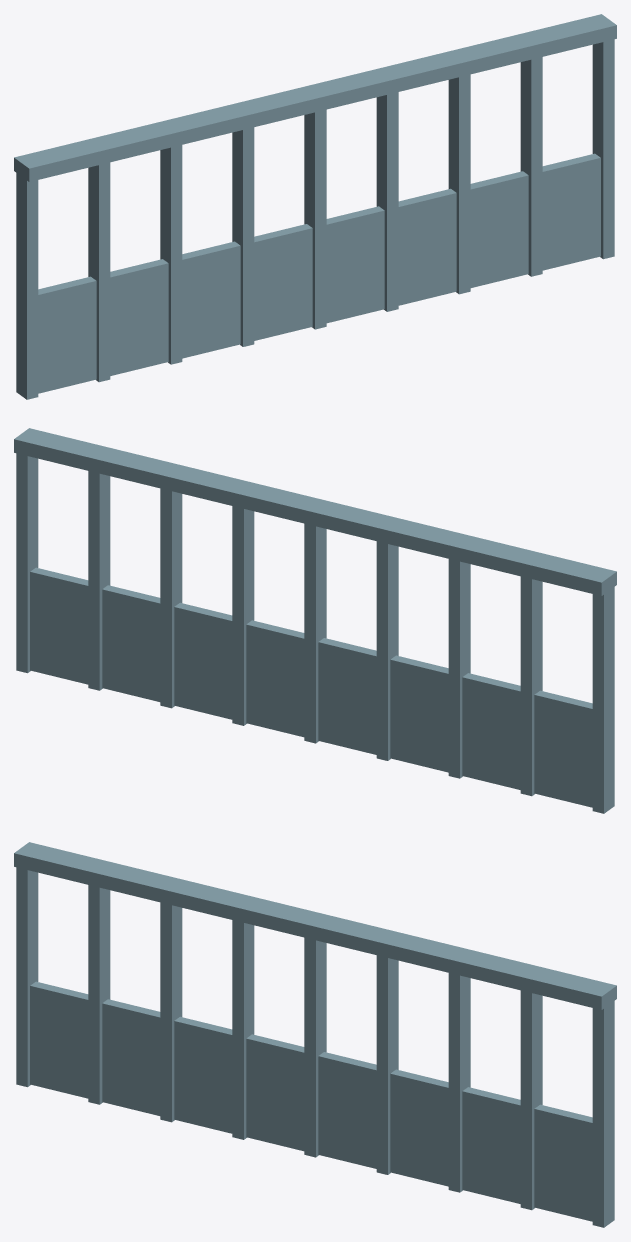
Rendered from Partitions_114.glb.
The picture shows the model from 3 angles, top to bottom: view 1: azimuth 30°, elevation 25°; view 2: azimuth 150°, elevation 25°; view 3: azimuth 330°, elevation 25°; orthographic projection.
Parts seen in each view (by area): view 1: Partitions_114; view 2: Partitions_114; view 3: Partitions_114.
Part boxes in pixels (<box>): Partitions_114: <box>14,14,616,399</box>; Partitions_114: <box>14,428,616,813</box>; Partitions_114: <box>14,842,616,1227</box>.
Bounding box in the file's own units: 2 × 0.7574 × 0.0898.
Materials: 1 (1 with a texture image).
